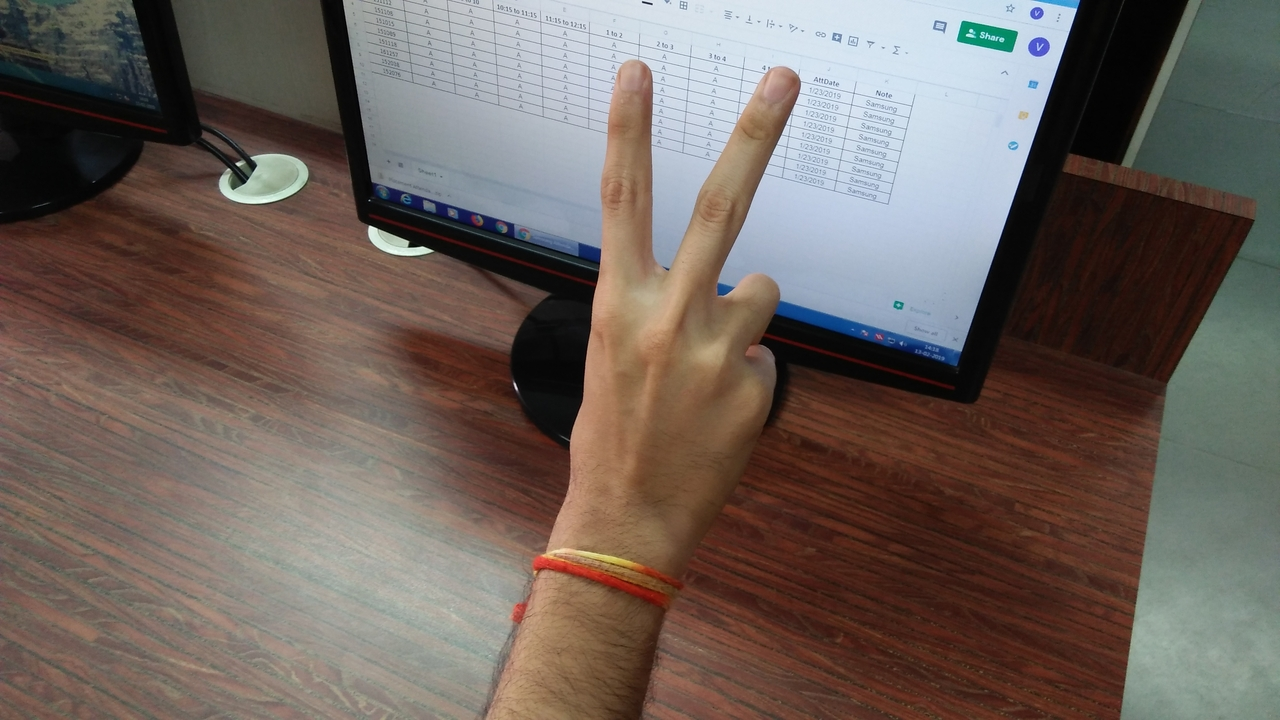fingertip: (750, 58, 806, 110), (604, 50, 656, 94)
